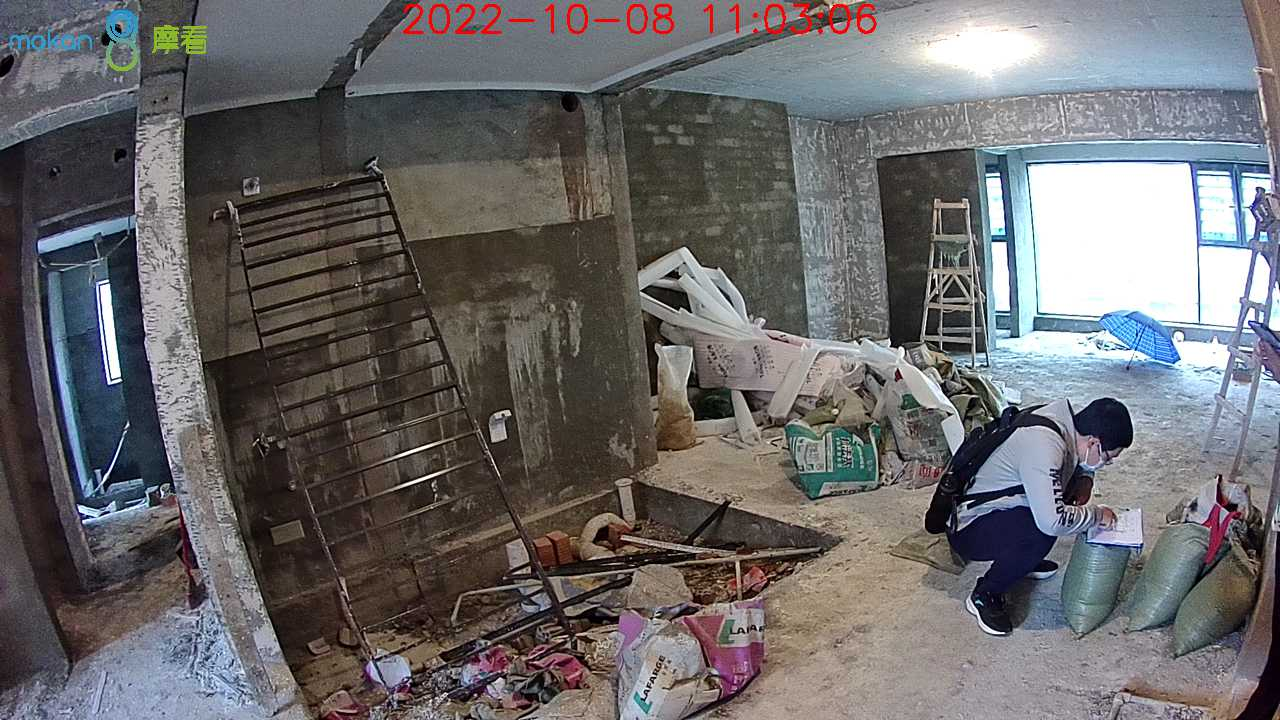people: (942, 398, 1136, 637)
window: (1025, 163, 1201, 318)
